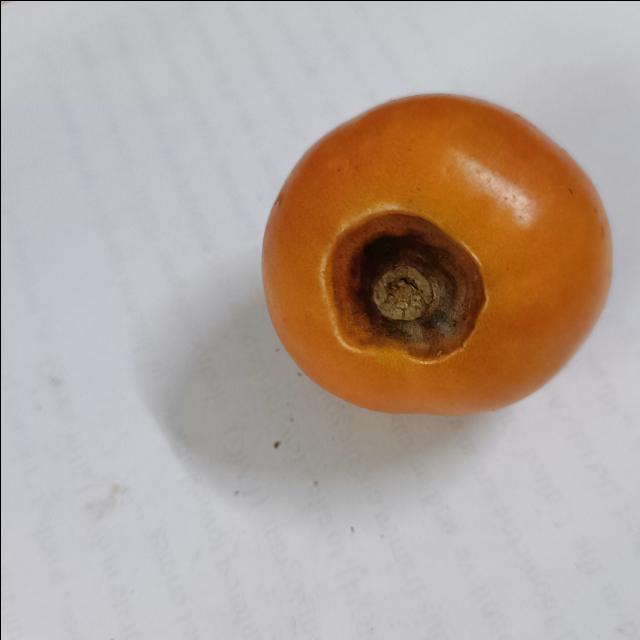Anthrocnose: (322, 206, 484, 362)
